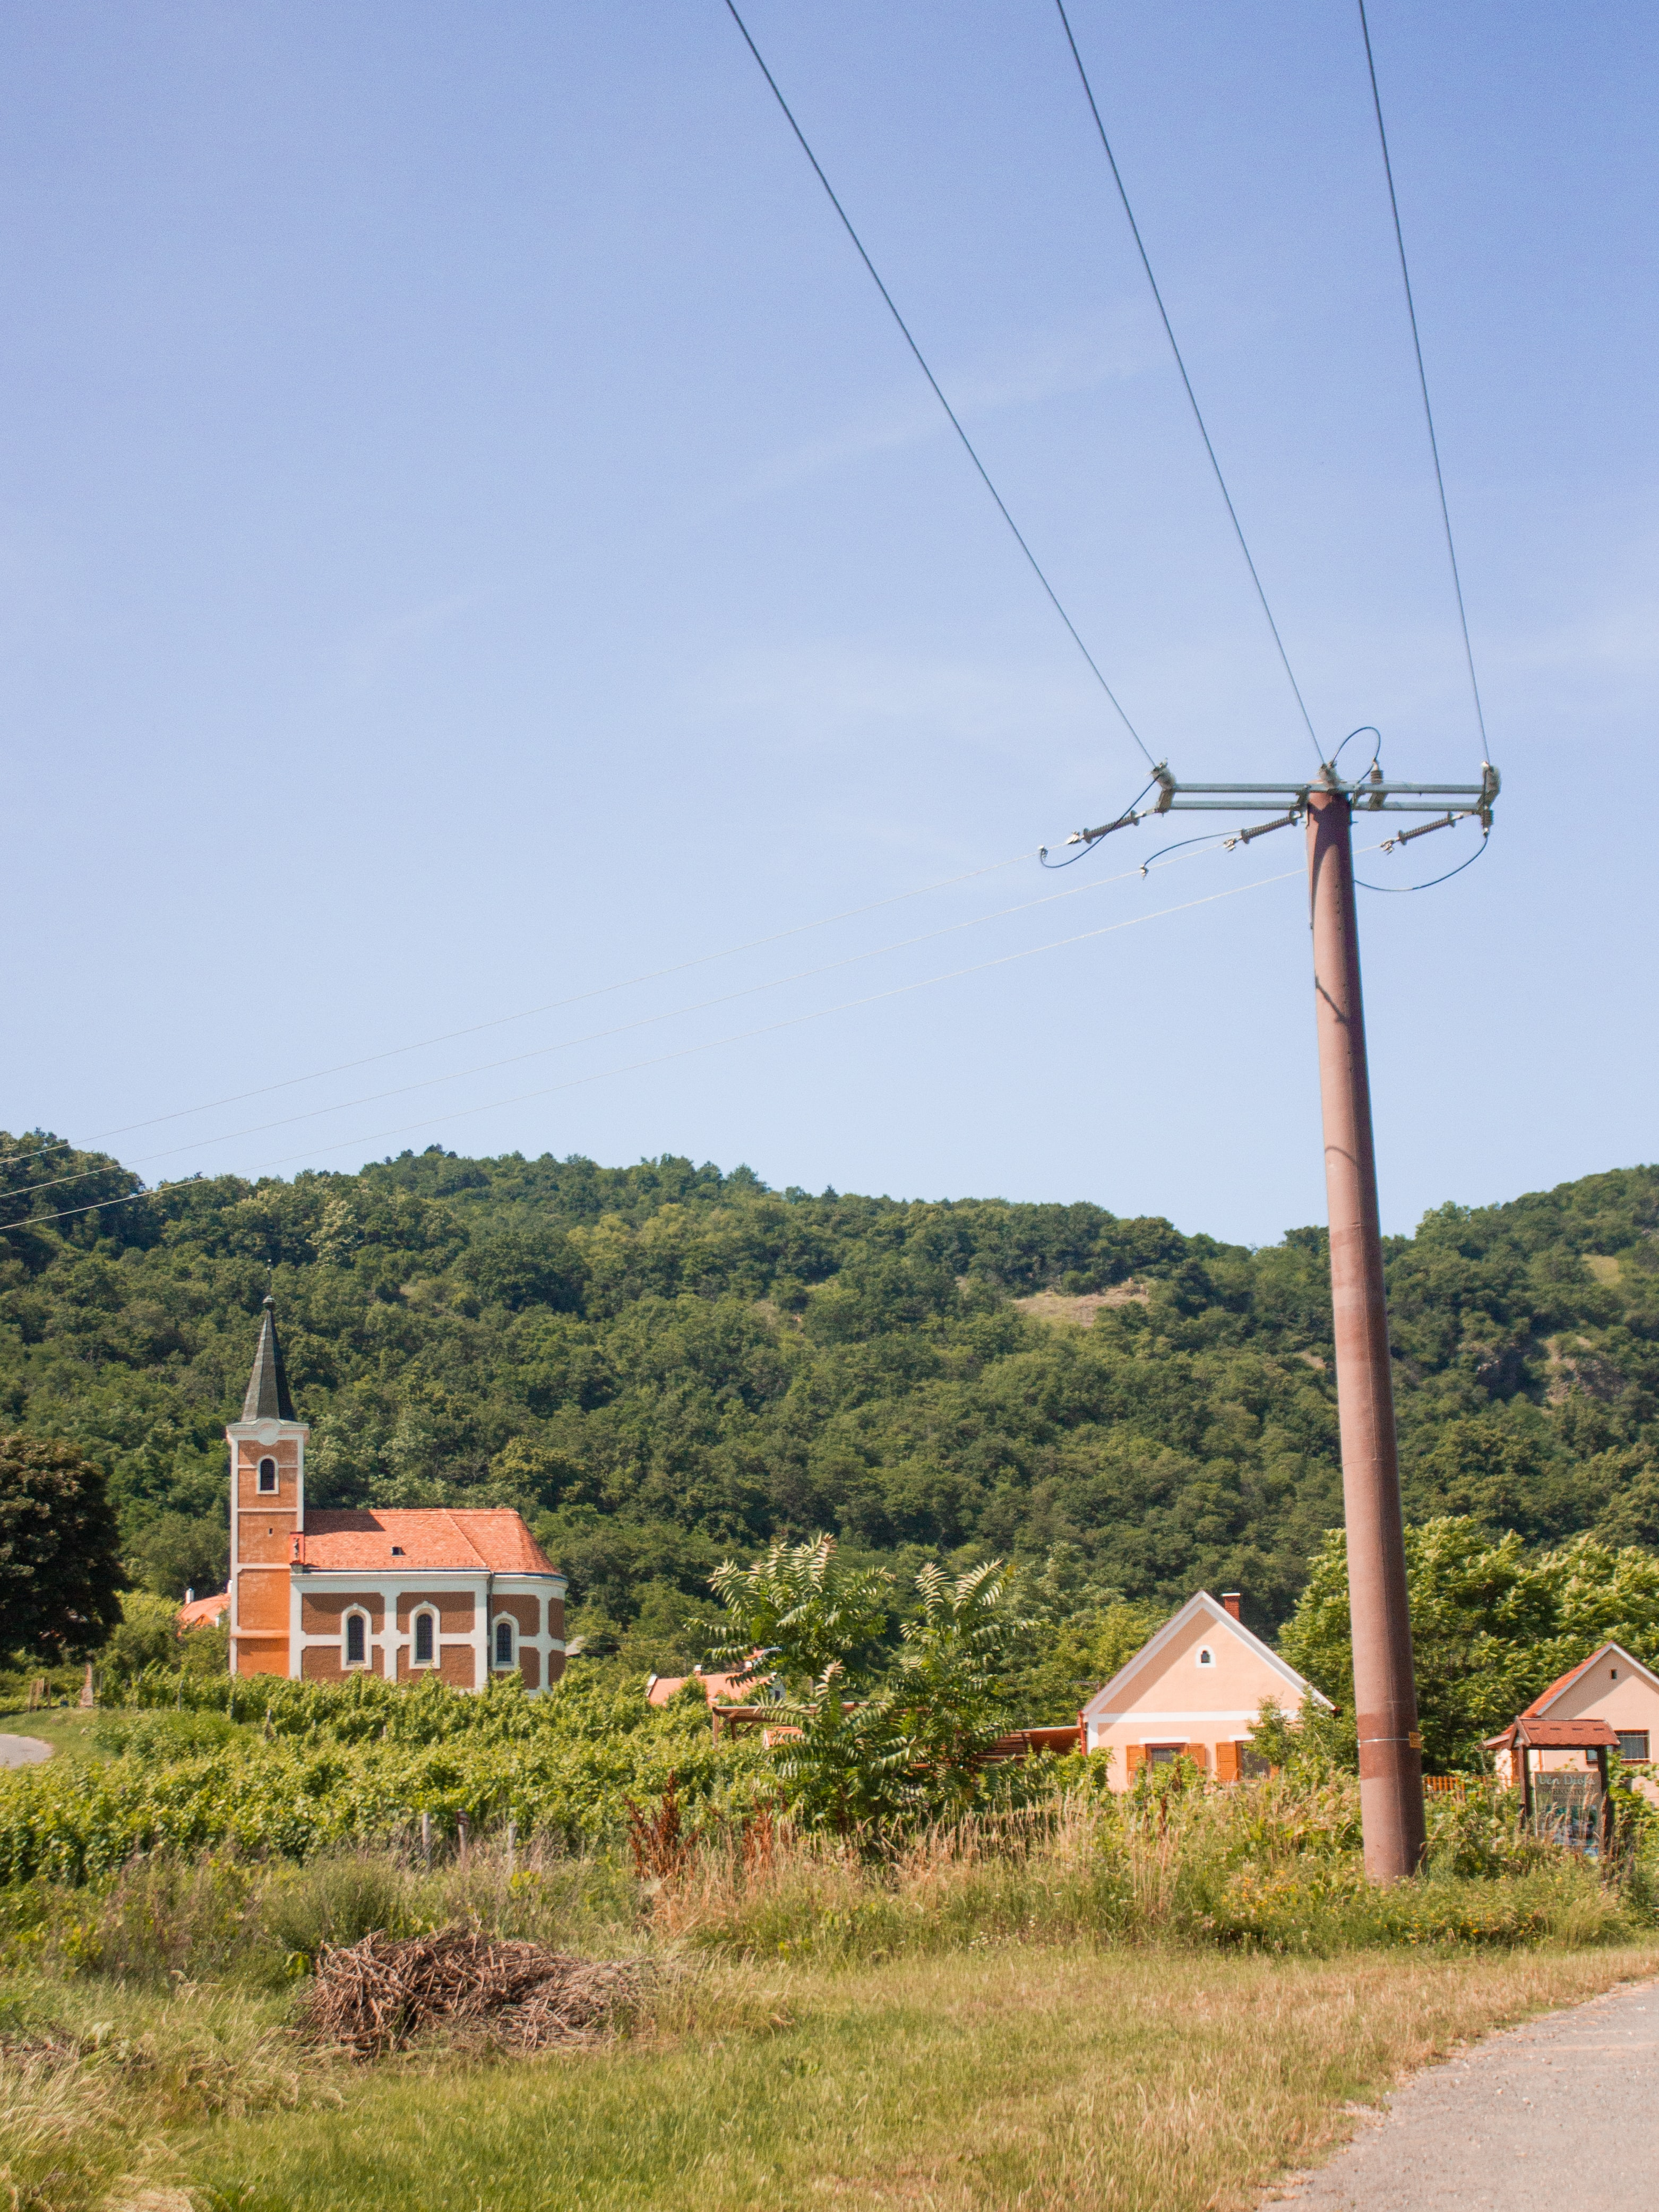utility_pole: (1026, 697, 1527, 1021)
